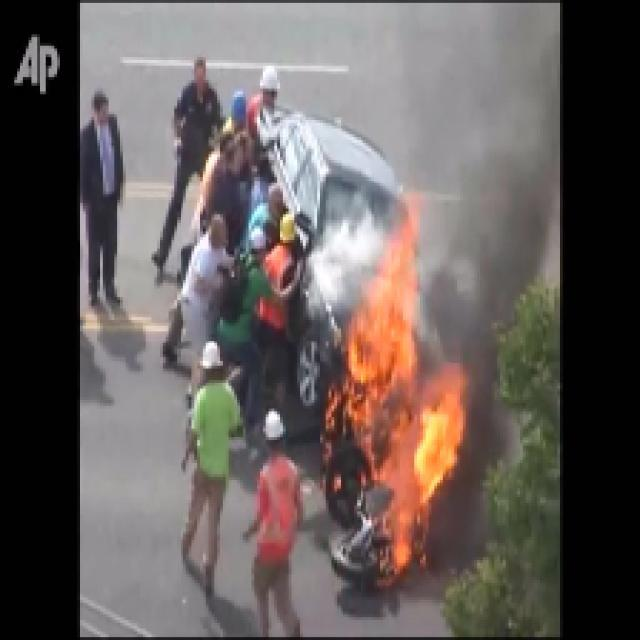Fire: (303, 208, 500, 600)
Smoke: (391, 8, 560, 312)
